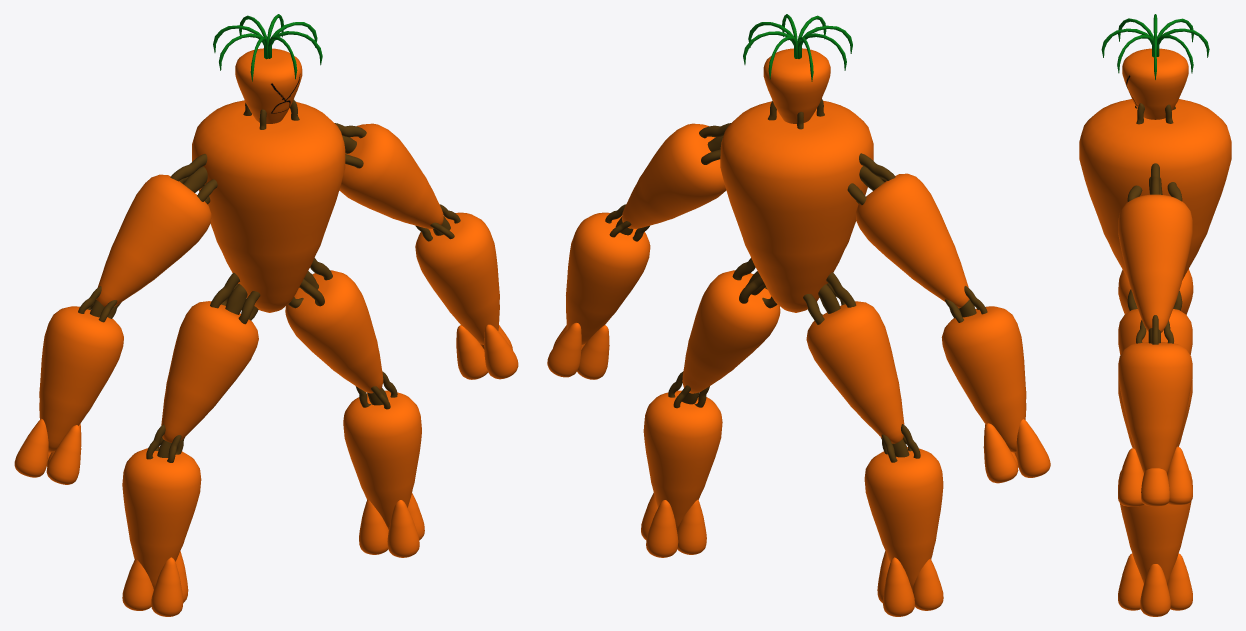
File: CarrotGolem.fbx
3 renders of one model, left to right at view 1: azimuth 30°, elevation 25°; view 2: azimuth 150°, elevation 25°; view 3: azimuth 270°, elevation 25°, orthographic. The views are drawn at different scales.
Parts seen in each view (by area): view 1: CarrotGolem79; view 2: CarrotGolem79; view 3: CarrotGolem79.
Part boxes in pixels (<box>): CarrotGolem79: <box>14,14,518,616</box>; CarrotGolem79: <box>547,14,1050,616</box>; CarrotGolem79: <box>1079,14,1231,616</box>.
Bounding box in the file's own units: 6.39 × 6.8 × 1.79.
